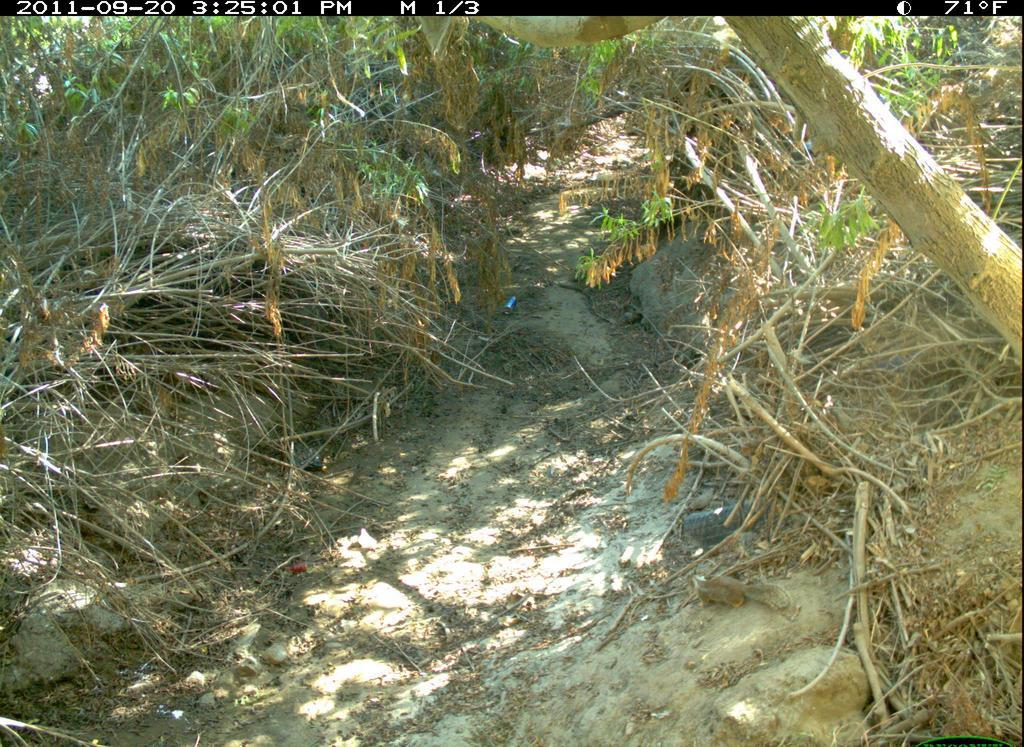squirrel: (687, 561, 797, 629)
